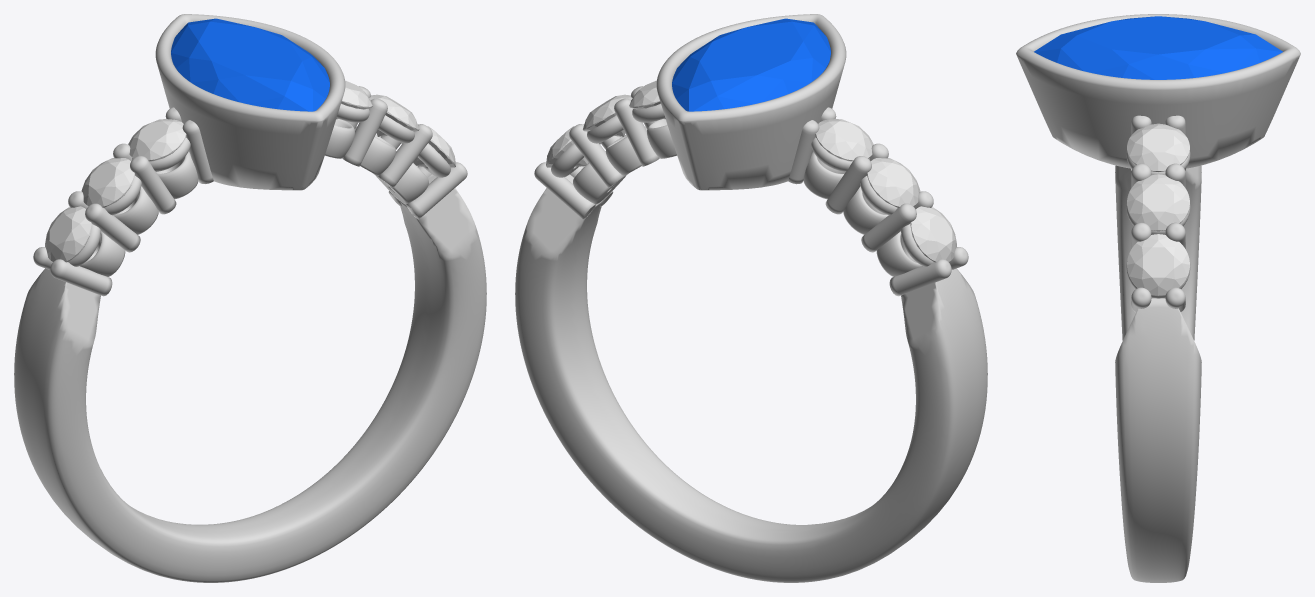
File: bluesapphire-marquise-platinum-bezelset-straighttaperedband-7stone.glb
The picture shows the model from 3 angles, left to right: view 1: azimuth 30°, elevation 25°; view 2: azimuth 150°, elevation 25°; view 3: azimuth 270°, elevation 25°; orthographic projection.
Parts seen in each view (by area): view 1: metal.002, stone.001, dia.002, dia.015, dia.016, dia.018; view 2: metal.002, stone.001, dia.002, dia.015, dia.016, dia.018; view 3: metal.002, stone.001, dia.017, dia.018, dia.019.
Boxes of the visible parts, box(x1,y1,x2,y2) form: metal.002: box(14, 14, 486, 582); stone.001: box(171, 18, 329, 111); dia.002: box(45, 206, 91, 262); dia.015: box(81, 158, 134, 207); dia.016: box(128, 119, 186, 161); dia.018: box(369, 94, 419, 136); metal.002: box(515, 14, 987, 582); stone.001: box(672, 18, 830, 111); dia.002: box(910, 206, 956, 262); dia.015: box(867, 158, 920, 207); dia.016: box(815, 119, 873, 161); dia.018: box(582, 94, 632, 136); metal.002: box(1016, 14, 1300, 582); stone.001: box(1034, 16, 1282, 79); dia.017: box(1127, 234, 1189, 295); dia.018: box(1127, 174, 1189, 231); dia.019: box(1127, 123, 1189, 171).
Bounding box in the file's own units: 20.5 × 22.93 × 11.31.
